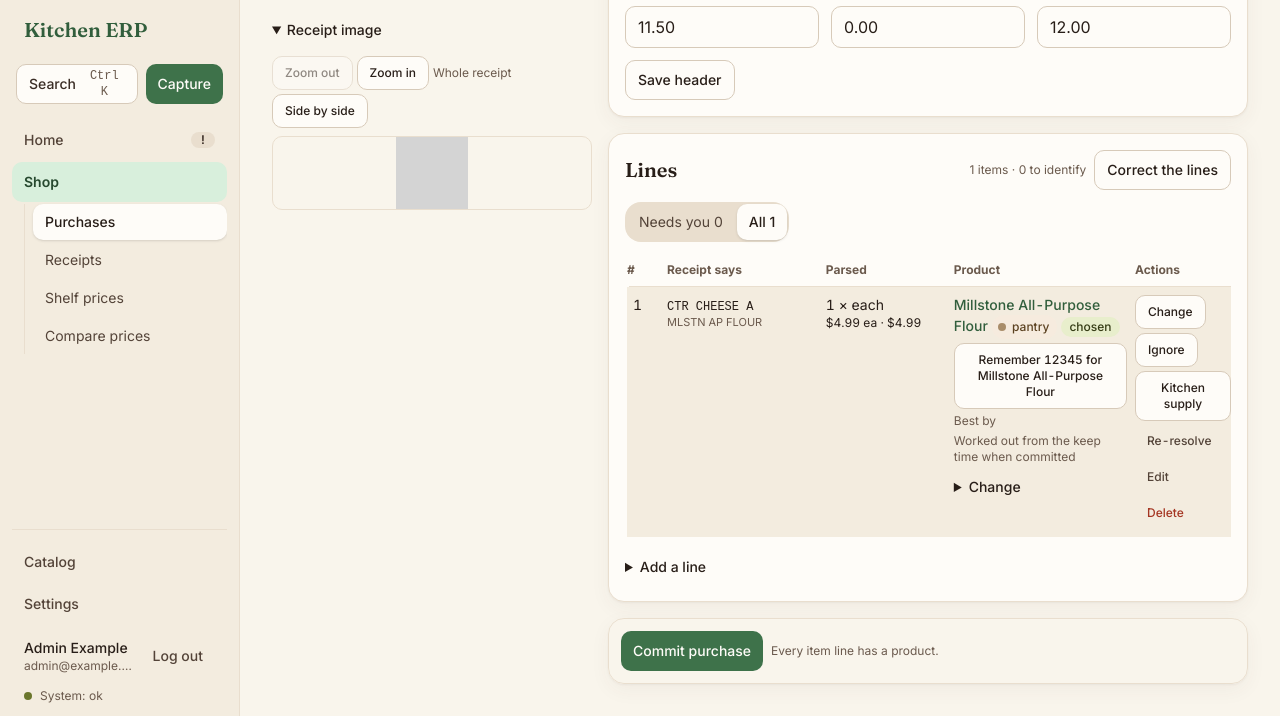
Scenario: remembering an item code in review › still says which waiting lines were left once the offer has gone (#448)
(page scrolled)
Click the button "Remember 12345 for Millstone All-Purpose Flour" at (1040, 376), box [954,343,1127,409]
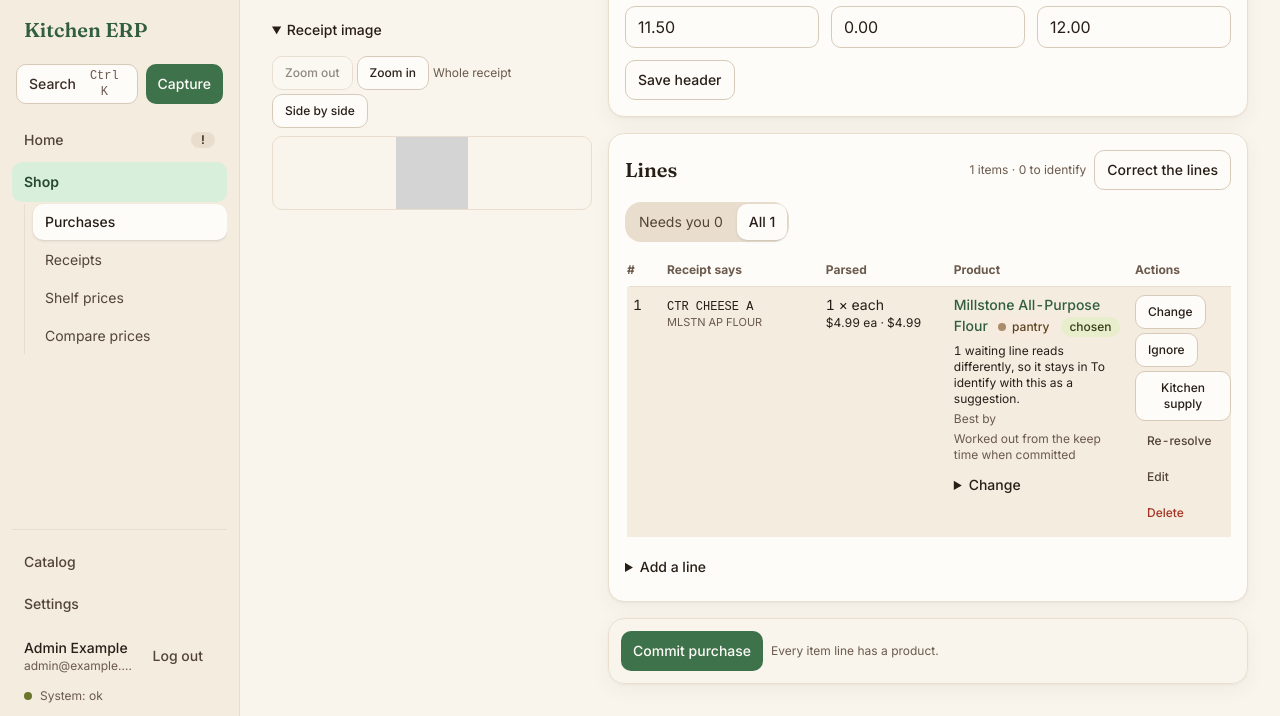
Expected: the text "1 waiting line reads differently" is shown, [954,343,1105,406]
